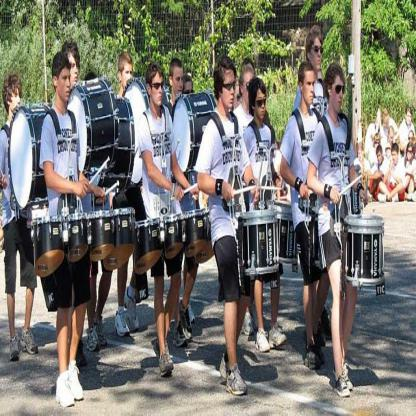face: (332, 77, 346, 114), (223, 72, 236, 109), (59, 68, 72, 102), (68, 52, 80, 88), (152, 72, 164, 107), (304, 71, 315, 106), (312, 37, 323, 71), (174, 66, 184, 99), (122, 63, 134, 89), (256, 90, 266, 121), (244, 75, 254, 105), (11, 90, 22, 113), (185, 81, 194, 106), (235, 90, 243, 112), (393, 152, 399, 165), (377, 153, 383, 164), (409, 133, 414, 146), (408, 148, 413, 161), (407, 111, 412, 123), (390, 133, 395, 144), (384, 113, 389, 123), (359, 149, 363, 160), (375, 140, 379, 150), (387, 149, 391, 159)
